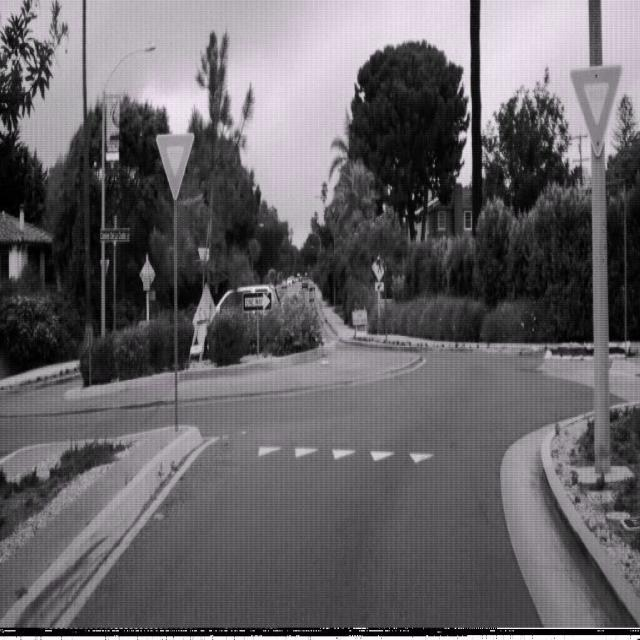yield: (569, 62, 622, 157), (155, 131, 194, 200)
